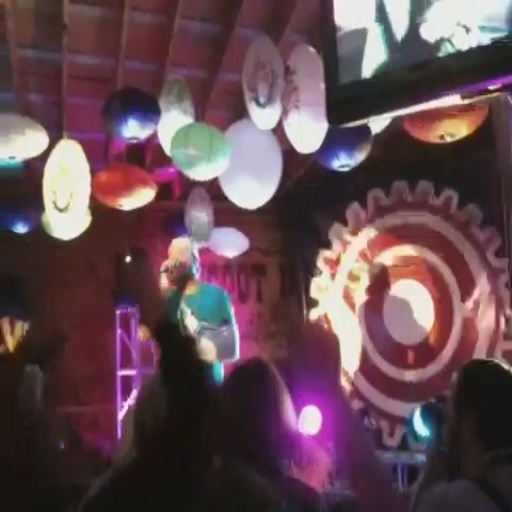hand: (425, 416, 464, 483)
